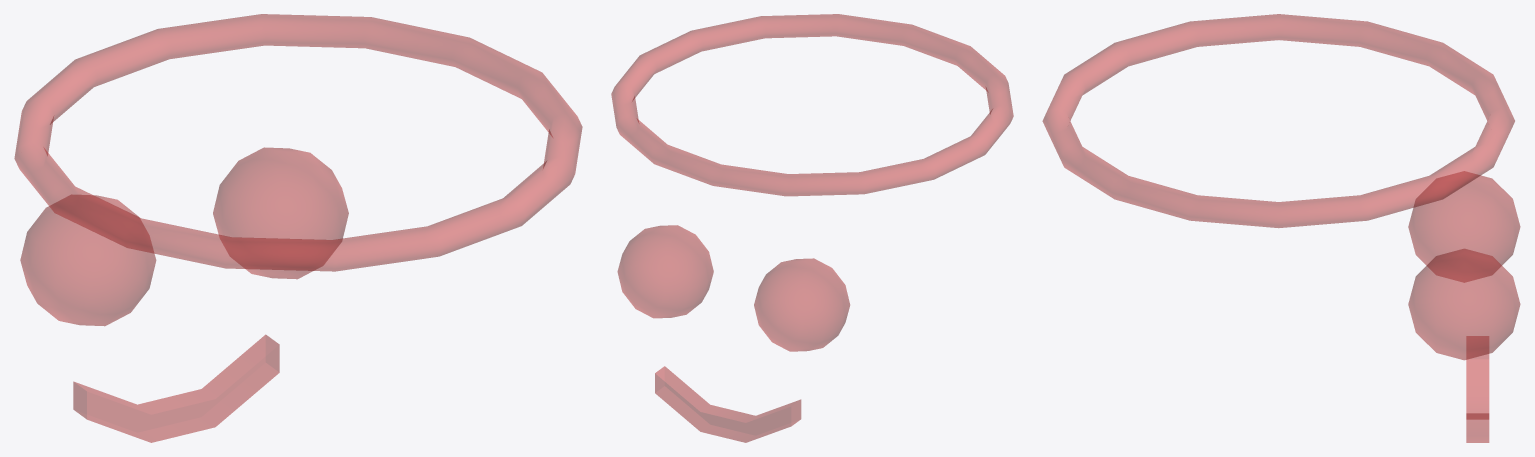
The model's file is head_dummy.obj.
3 views of the same model, side by side, from view 1: azimuth 30°, elevation 25°; view 2: azimuth 150°, elevation 25°; view 3: azimuth 270°, elevation 25° (orthographic). The views are drawn at different scales.
Parts seen in each view (by area): view 1: Torus002; view 2: Torus002; view 3: Torus002.
Part boxes in pixels (left/top/right/bottom): Torus002: left=14, top=14, right=582, bottom=442; Torus002: left=611, top=14, right=1013, bottom=442; Torus002: left=1042, top=14, right=1520, bottom=442.
Bounding box in the file's own units: 34 × 25.56 × 34.38.
